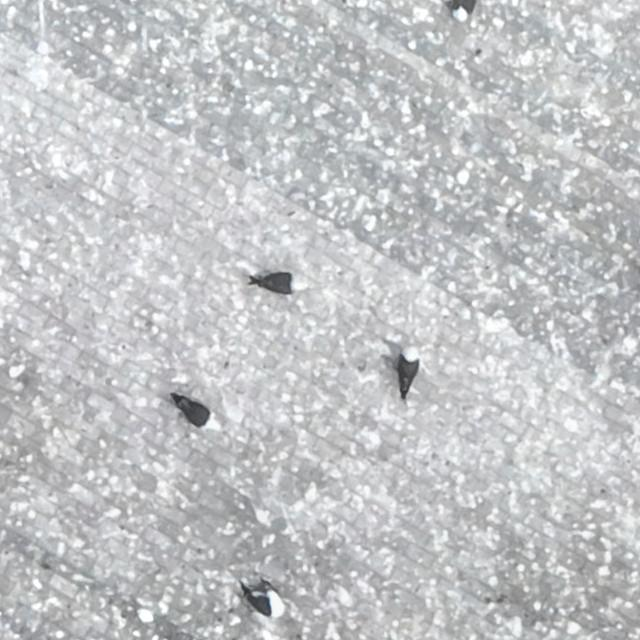umineko: (179, 399, 220, 431), (254, 584, 286, 618), (262, 274, 306, 294), (399, 349, 419, 391), (455, 0, 475, 21)
